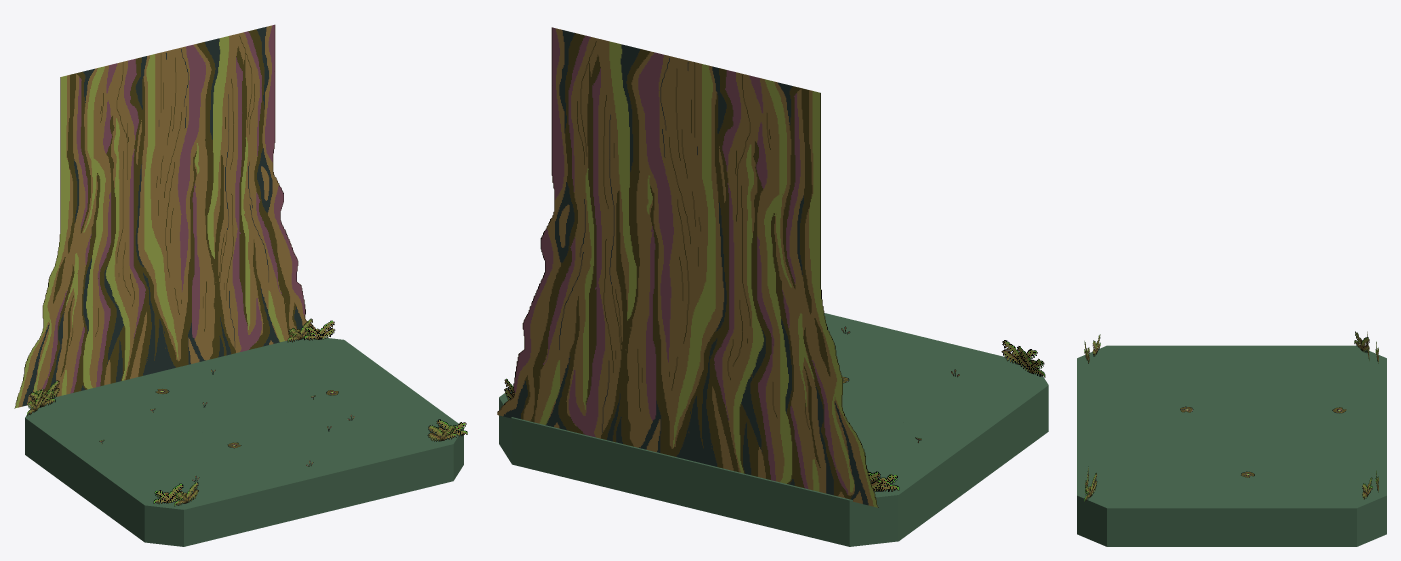
Rendered from Nivel8.fbx.
The picture shows the model from 3 angles, left to right: view 1: azimuth 30°, elevation 25°; view 2: azimuth 150°, elevation 25°; view 3: azimuth 270°, elevation 25°; orthographic projection. The views are drawn at different scales.
Parts seen in each view (by area): view 1: Sequoia.004, Base p3, Base p4, Base p1, Base p2; view 2: Sequoia.004, Base p1, Base p3, Base p2, Base p4; view 3: Base p4, Base p2, Base p1, Base p3.
Part boxes in pixels (bbox=[...]): Sequoia.004: bbox=[14, 24, 315, 408]; Base p3: bbox=[85, 422, 318, 546]; Base p4: bbox=[245, 384, 463, 513]; Base p1: bbox=[25, 369, 243, 498]; Base p2: bbox=[171, 337, 403, 422]; Sequoia.004: bbox=[497, 27, 878, 507]; Base p1: bbox=[681, 408, 973, 546]; Base p3: bbox=[835, 323, 1048, 486]; Base p2: bbox=[499, 391, 681, 505]; Base p4: bbox=[824, 313, 866, 345]; Base p4: bbox=[1077, 427, 1231, 546]; Base p2: bbox=[1232, 427, 1386, 546]; Base p1: bbox=[1232, 345, 1386, 426]; Base p3: bbox=[1077, 345, 1231, 426].
Size of the model in its own units: 1800 by 1918 by 1449.
23 materials, 22 textured.
